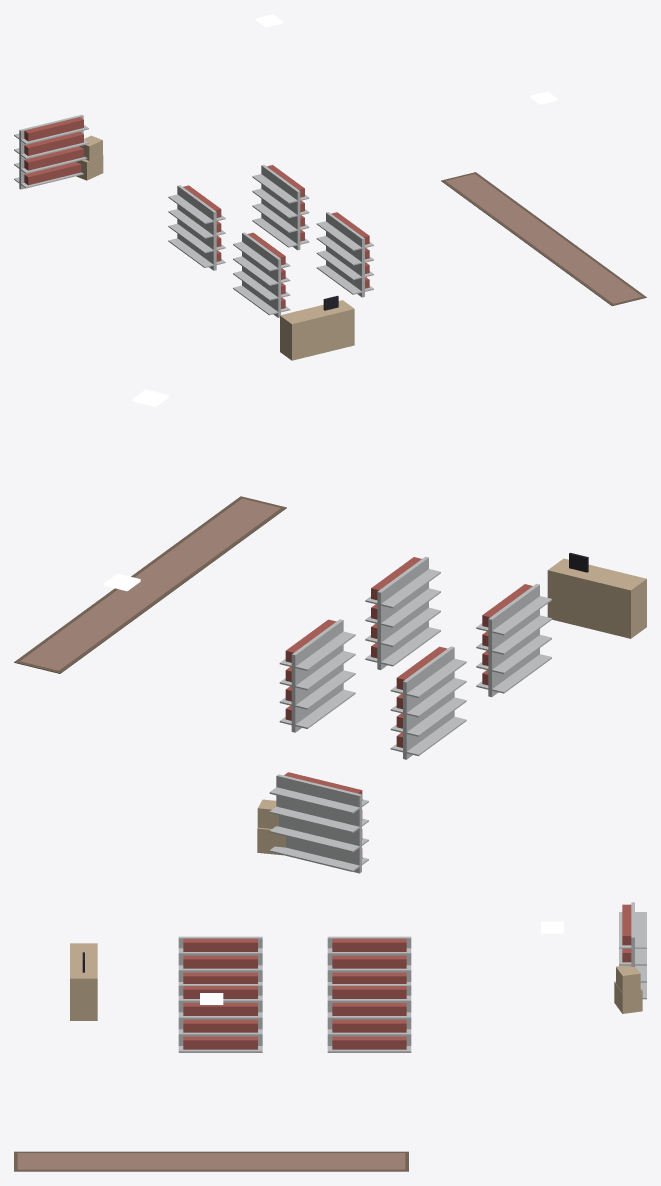
The model's file is fine-s0.glb.
The picture shows the model from 3 angles, top to bottom: view 1: azimuth 30°, elevation 25°; view 2: azimuth 150°, elevation 25°; view 3: azimuth 270°, elevation 25°; orthographic projection. The views are drawn at different scales.
Visible parts, largest first — view 1: soft-s0, shelving.000, shop-counter.000, shelf.000, shelf.002, shelf.003, shelf.001, cardboard-box.000; view 2: soft-s0, shelving.000, shop-counter.000, shelf.002, shelf.000, shelf.001, shelf.003, cardboard-box.000; view 3: soft-s0, shelf.002, shelf.003, shelf.001, shelf.000, shop-counter.000, shelving.000, cardboard-box.000.
Boxes of the visible parts, bbox=[...] form: soft-s0: bbox=[441, 172, 646, 306]; shelving.000: bbox=[14, 114, 88, 189]; shop-counter.000: bbox=[280, 295, 354, 360]; shelf.000: bbox=[168, 185, 225, 270]; shelf.002: bbox=[252, 164, 309, 250]; shelf.003: bbox=[316, 212, 373, 297]; shelf.001: bbox=[233, 232, 290, 317]; cardboard-box.000: bbox=[76, 135, 103, 180]; soft-s0: bbox=[14, 496, 286, 673]; shelving.000: bbox=[269, 772, 368, 873]; shop-counter.000: bbox=[547, 552, 646, 638]; shelf.002: bbox=[279, 619, 355, 732]; shelf.000: bbox=[390, 646, 466, 759]; shelf.001: bbox=[476, 583, 551, 697]; shelf.003: bbox=[365, 556, 440, 669]; cardboard-box.000: bbox=[257, 799, 285, 855]; soft-s0: bbox=[14, 1151, 408, 1171]; shelf.002: bbox=[327, 984, 411, 1052]; shelf.003: bbox=[178, 984, 262, 1052]; shelf.001: bbox=[178, 936, 262, 983]; shelf.000: bbox=[327, 936, 411, 983]; shop-counter.000: bbox=[70, 943, 97, 1020]; shelving.000: bbox=[619, 902, 646, 999]; cardboard-box.000: bbox=[614, 965, 642, 1013].
Size of the model in its own units: 10.27 by 3.89 by 13.6.
